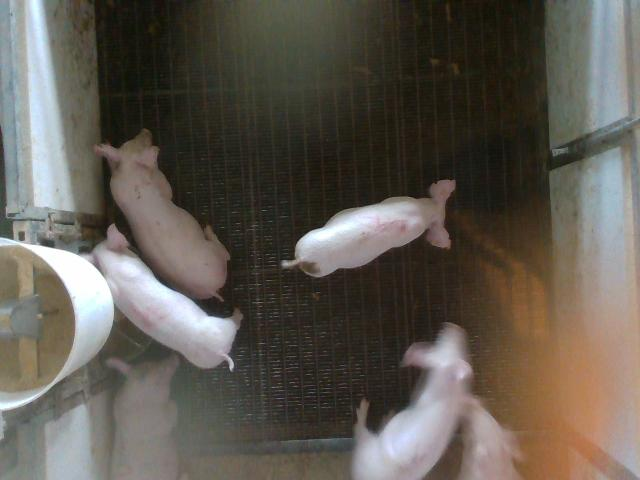pig-4: (85, 224, 241, 369)
pig-5: (281, 180, 455, 277)
